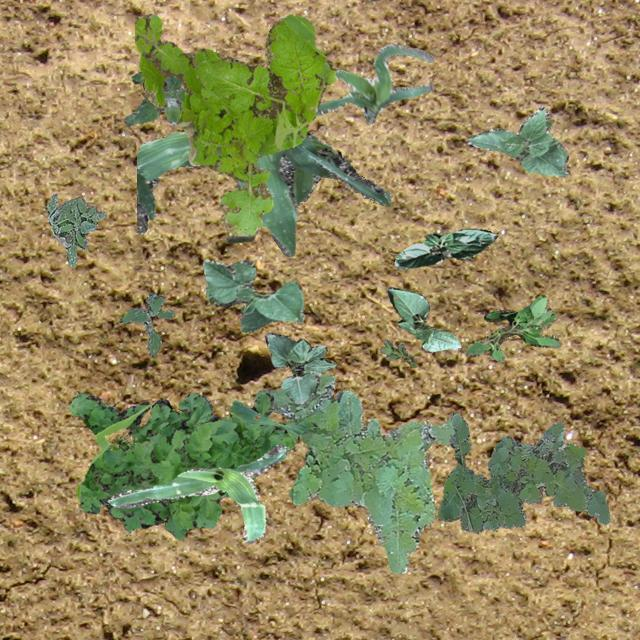crop: (136, 130, 390, 256), (107, 443, 286, 542), (314, 42, 432, 122), (202, 258, 304, 332), (466, 106, 568, 176), (264, 332, 336, 404), (386, 286, 460, 352), (394, 228, 496, 268)
weed: (134, 12, 334, 242), (252, 372, 454, 572), (68, 392, 320, 540), (436, 412, 608, 532), (464, 294, 560, 362), (44, 192, 106, 266), (119, 292, 172, 356), (124, 70, 184, 124), (378, 338, 416, 367)
